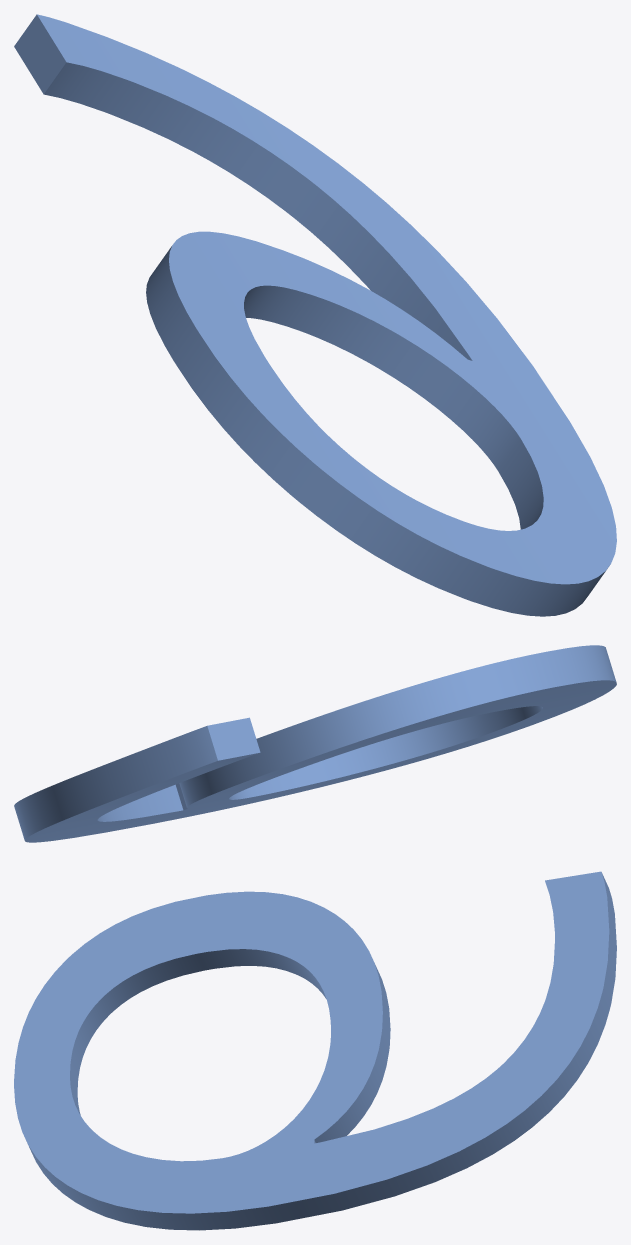
File: Number_6.gltf
3 renders of one model, top to bottom at view 1: azimuth 30°, elevation 25°; view 2: azimuth 150°, elevation 25°; view 3: azimuth 270°, elevation 25°, orthographic. The views are drawn at different scales.
Parts seen in each view (by area): view 1: Sub_8_Cell_2_2_Number_6; view 2: Sub_8_Cell_2_2_Number_6; view 3: Sub_8_Cell_2_2_Number_6.
Part boxes in pixels (left/top/right/bottom): Sub_8_Cell_2_2_Number_6: left=14, top=14, right=616, bottom=616; Sub_8_Cell_2_2_Number_6: left=14, top=645, right=616, bottom=842; Sub_8_Cell_2_2_Number_6: left=14, top=871, right=616, bottom=1230.
Size of the model in its own units: 0.0156 by 0.0125 by 0.0253.
